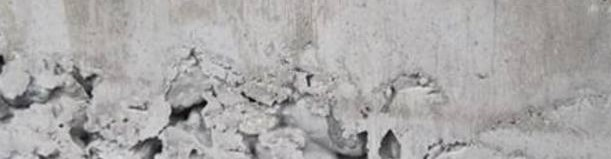Spalling: (1, 44, 470, 159)
